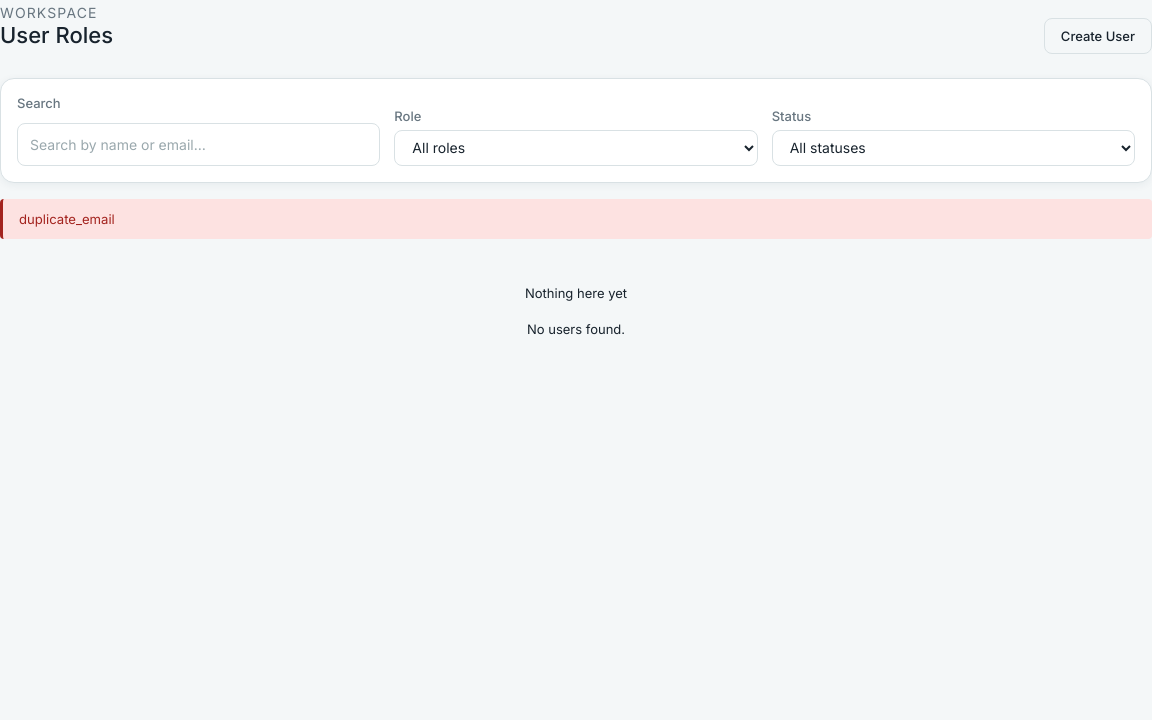
Scenario: UsersAdminView create/edit dialogs › displays the mapped error when store.create fails
This screenshot has width=1152, height=720.
Click the button "Create User": (1098,36) [1044, 18, 1151, 54]
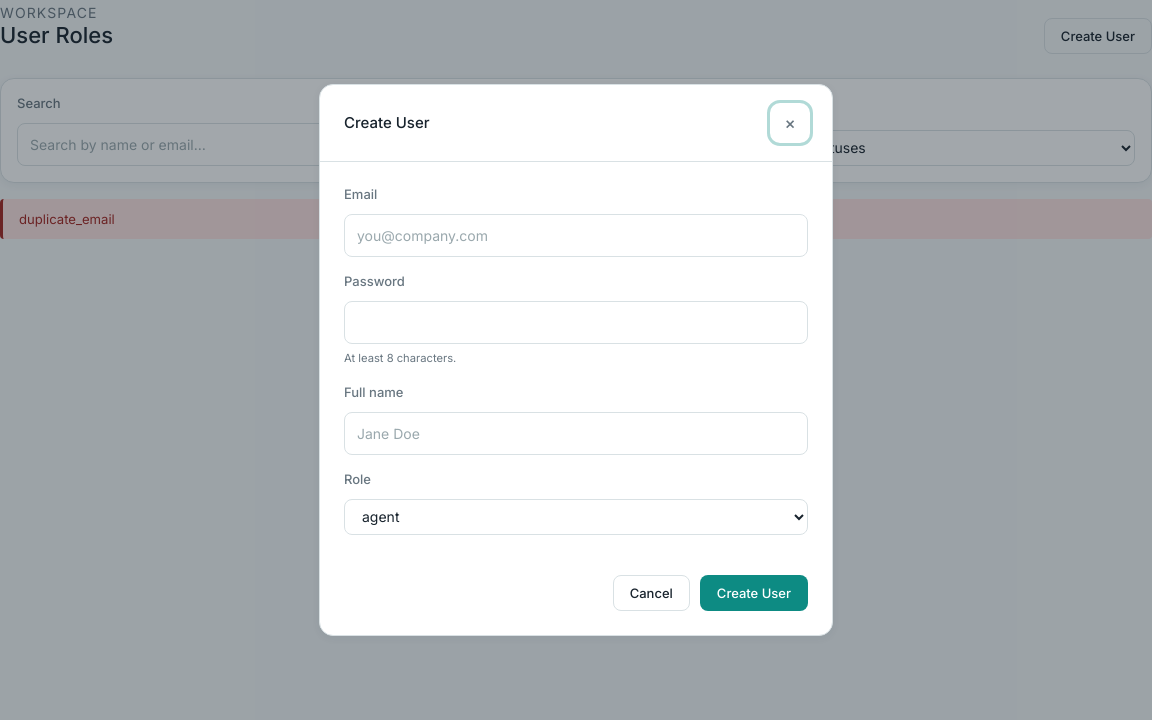
In the field labelled "Email": (576,236) [344, 214, 808, 257], type "dup@crm.local"
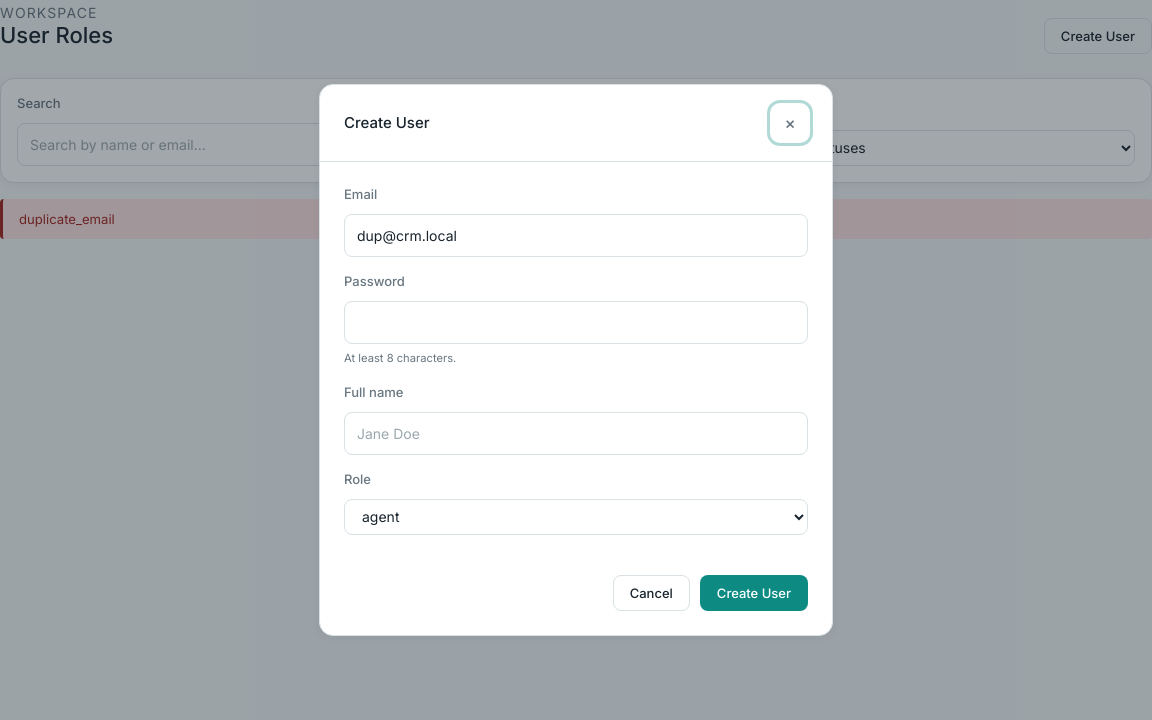
In the password field labelled "Password": (576,322) [344, 301, 808, 344], type "Correct#Passw0rd!"
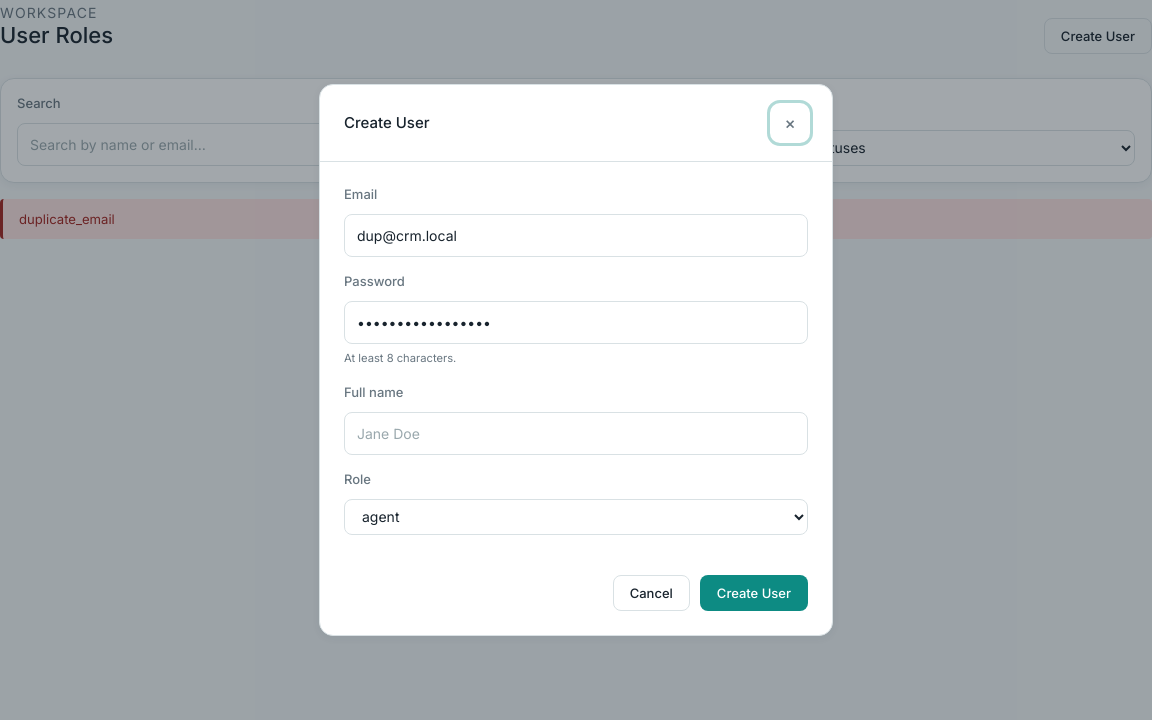
In the field labelled "Full name": (576,434) [344, 412, 808, 455], type "Dup"
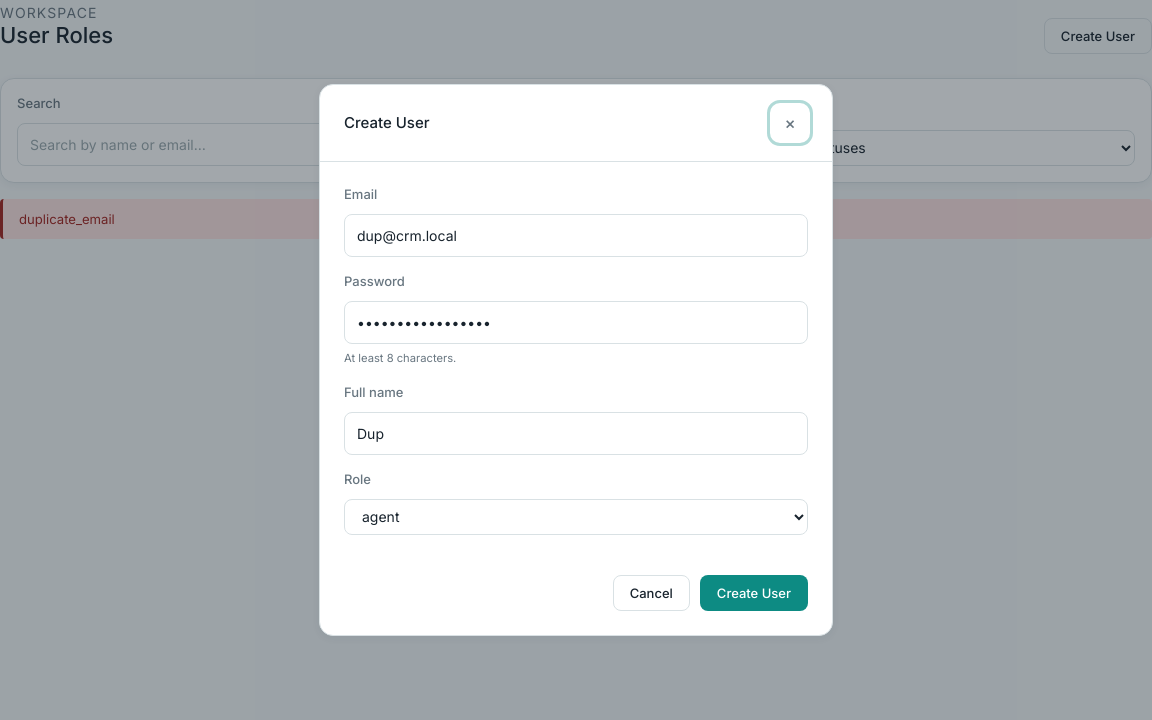
Submit the form with class "user-form", box [344, 186, 808, 611]
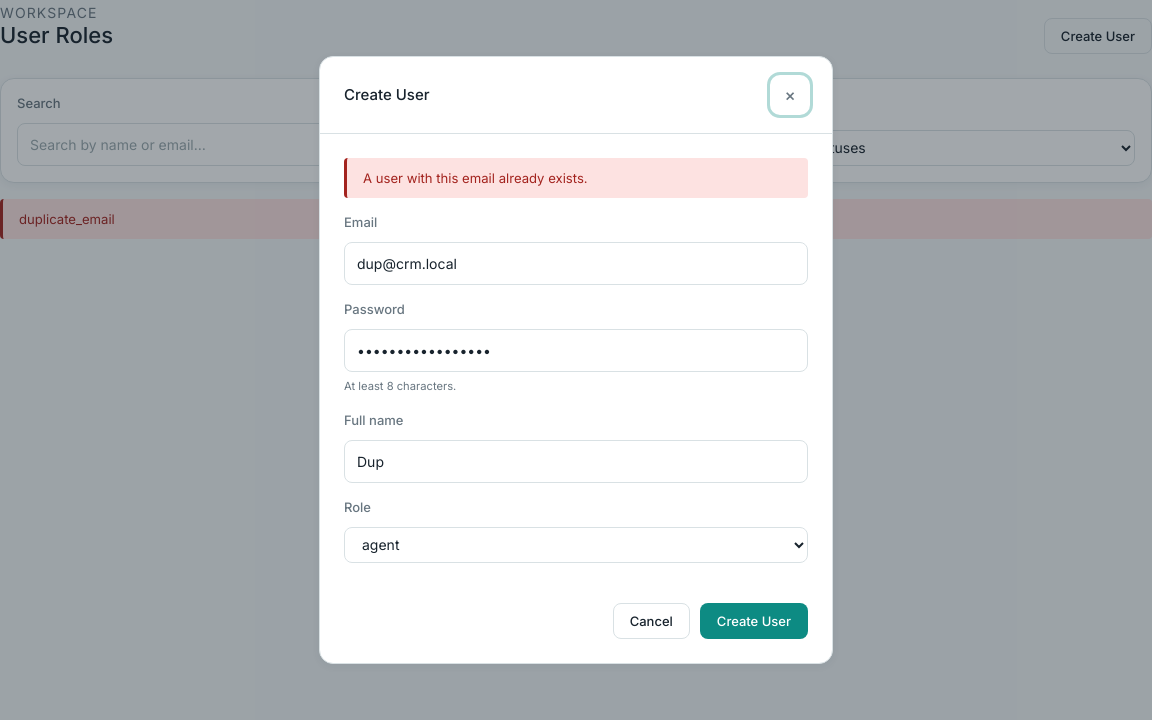
Now the text "already exists" is shown, box [363, 170, 588, 186]
